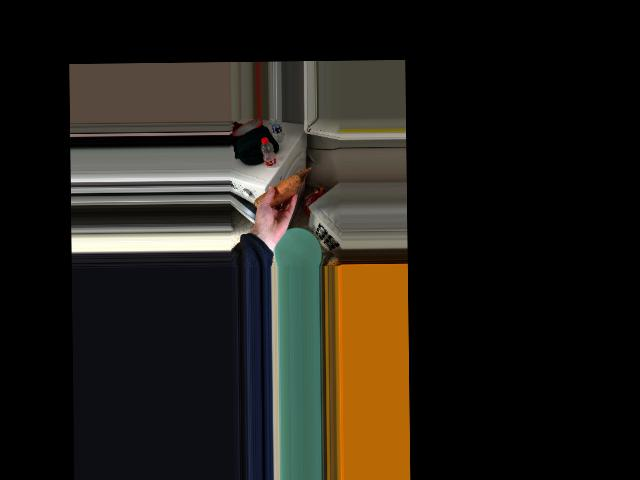sweet_potato: (255, 182, 292, 213)
